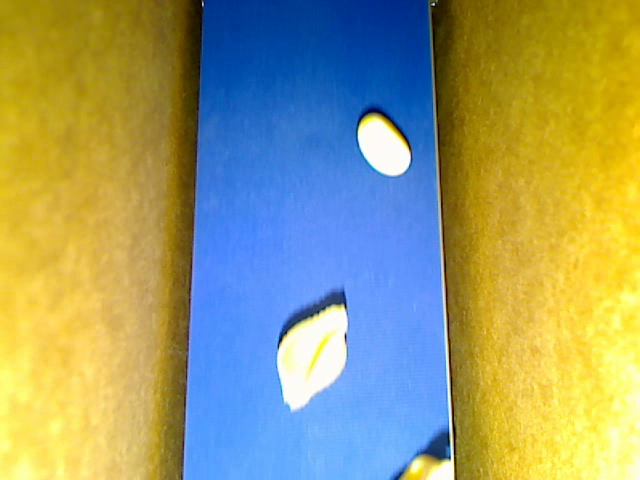shell: (274, 303, 349, 413)
